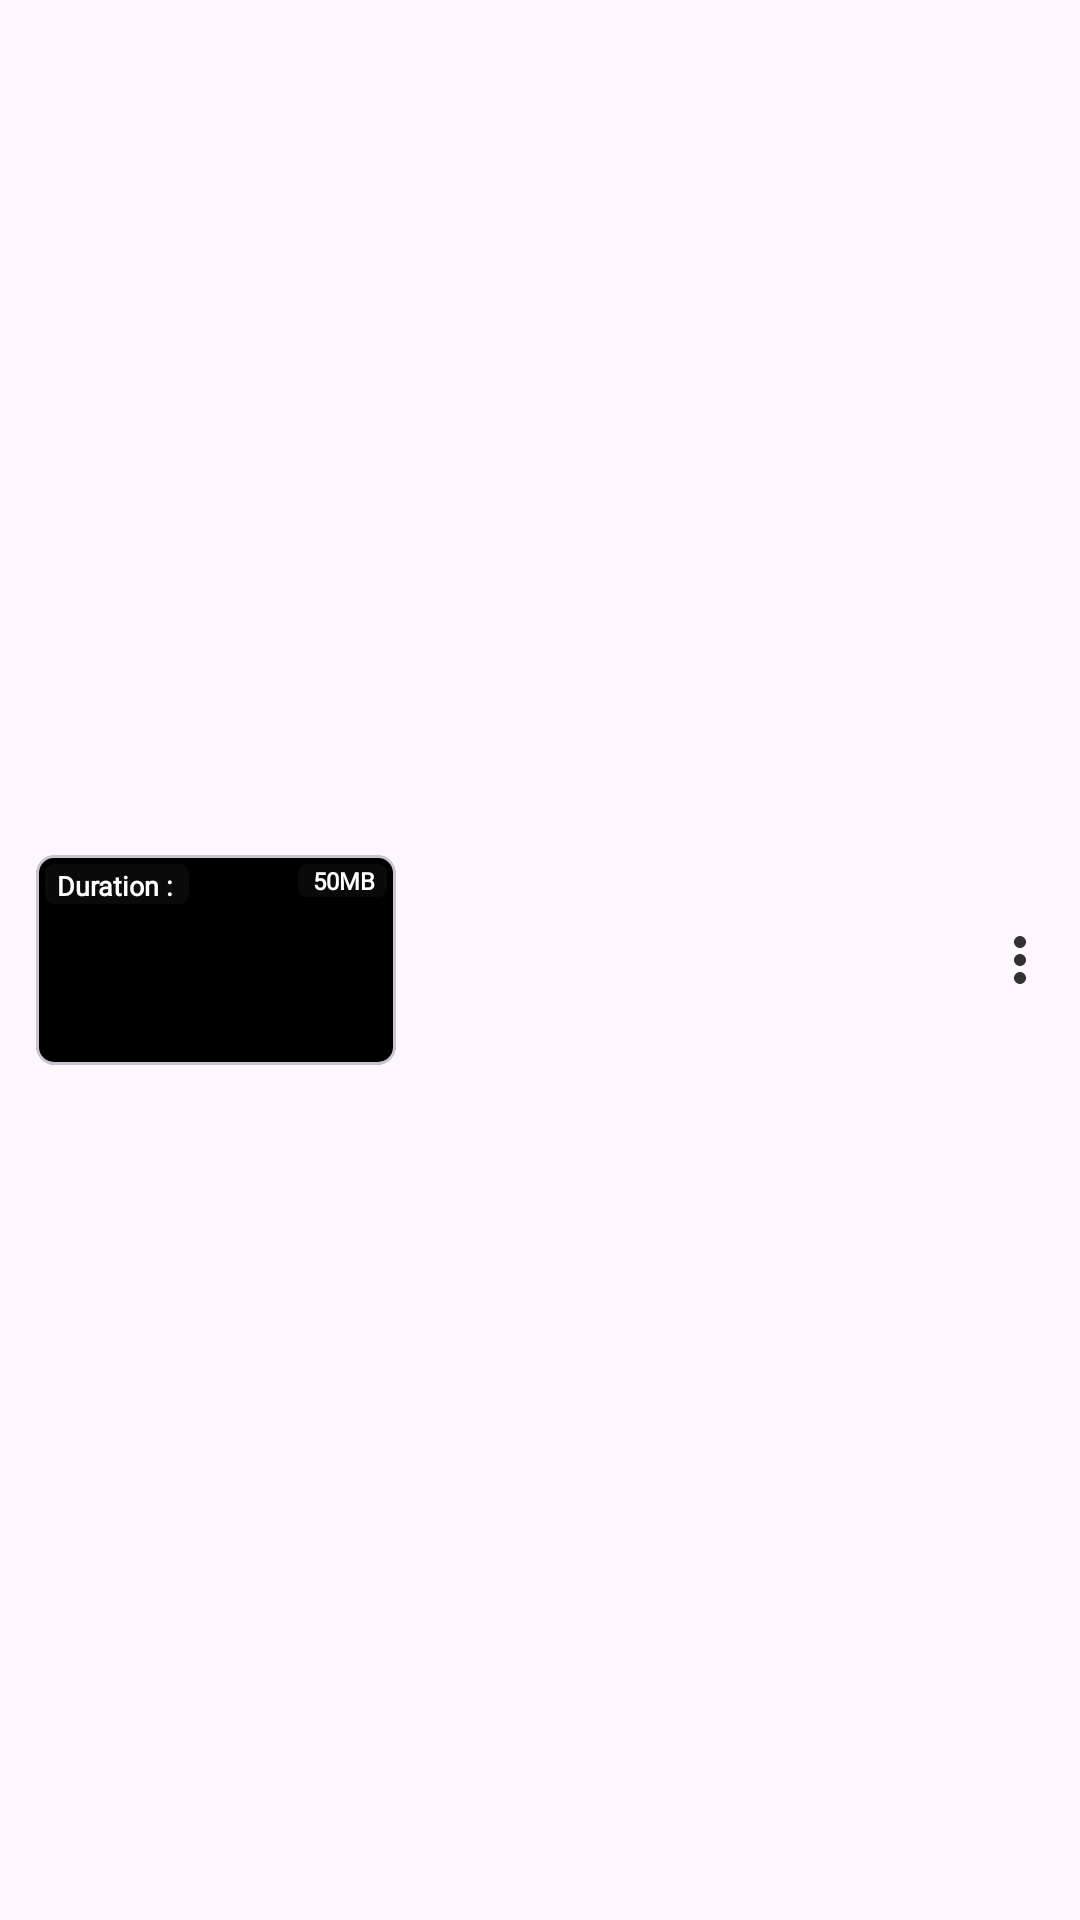

Named icons in this screenshot (1080px x 1920px) and their bounding boxes, (left=x1, top=y1, right=x2, bottom=y2):
more: (left=1014, top=936, right=1026, bottom=984)
